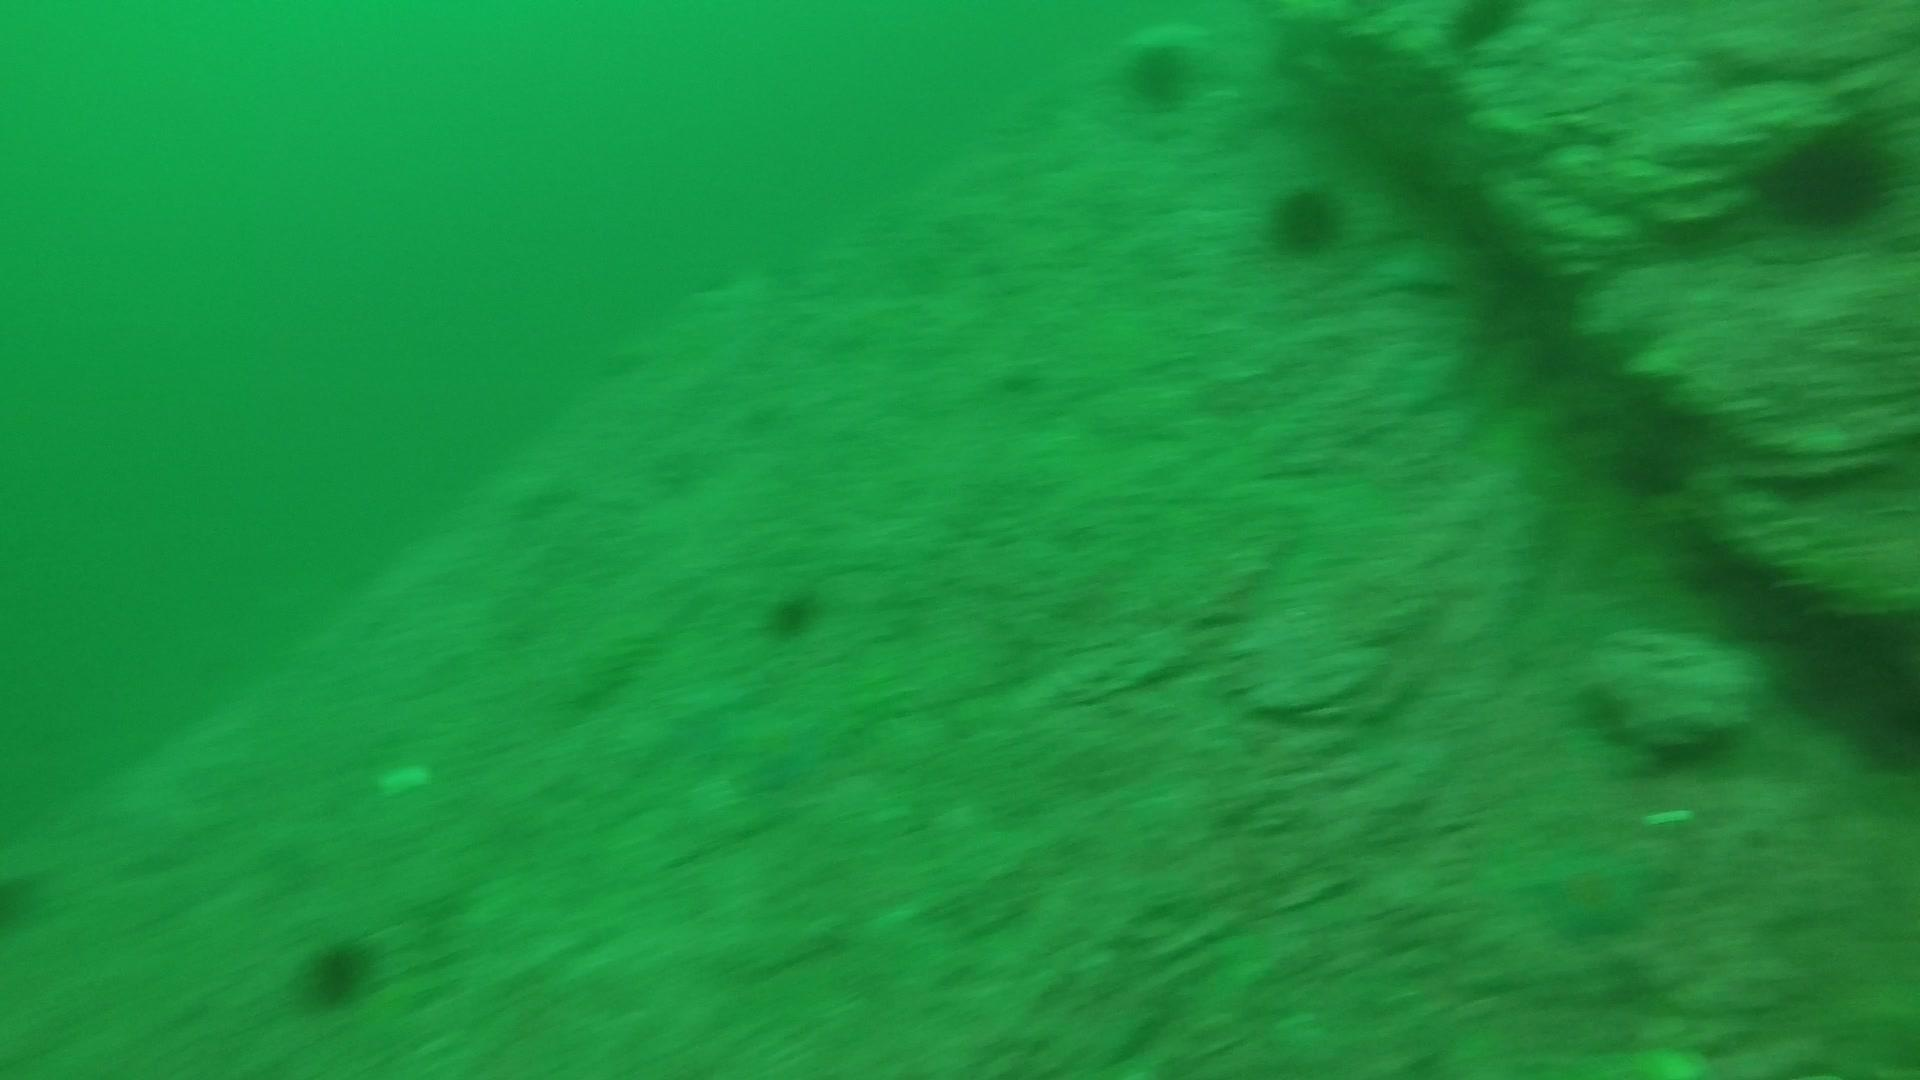echinus: (1755, 116, 1899, 233), (1259, 177, 1352, 261), (293, 928, 382, 1013), (1116, 36, 1203, 115), (1439, 0, 1531, 53), (757, 580, 828, 644)
starfish: (1523, 833, 1669, 945)
